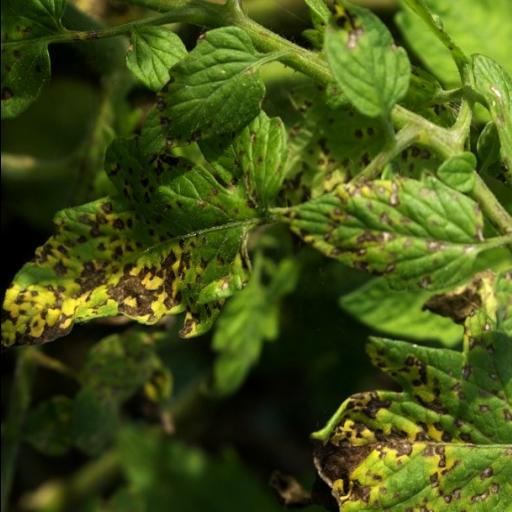Septoria: (0, 112, 286, 350), (306, 283, 512, 512), (264, 168, 488, 294), (153, 25, 266, 151), (321, 0, 414, 118)
